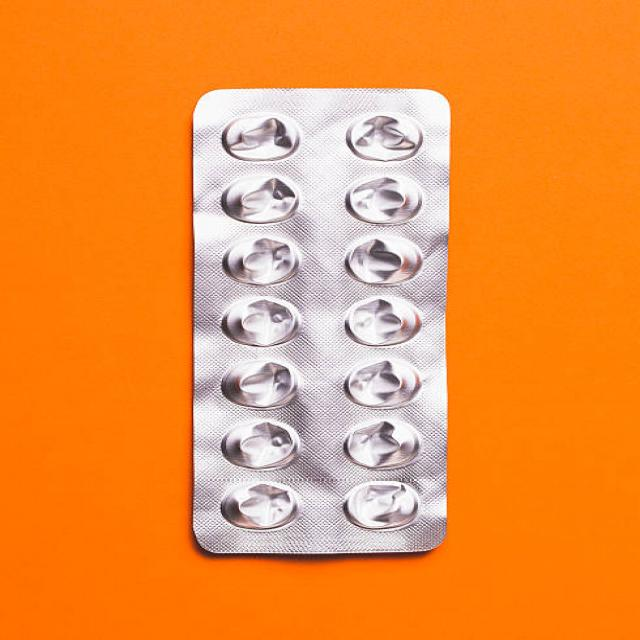Empty: (206, 290, 320, 356), (210, 100, 315, 168), (330, 294, 435, 355), (332, 104, 429, 170), (208, 473, 310, 535), (209, 410, 310, 472), (209, 170, 317, 227), (209, 234, 321, 288), (342, 172, 446, 230), (332, 233, 436, 290), (332, 359, 438, 414), (209, 352, 313, 408), (330, 479, 431, 535), (332, 418, 436, 472)
